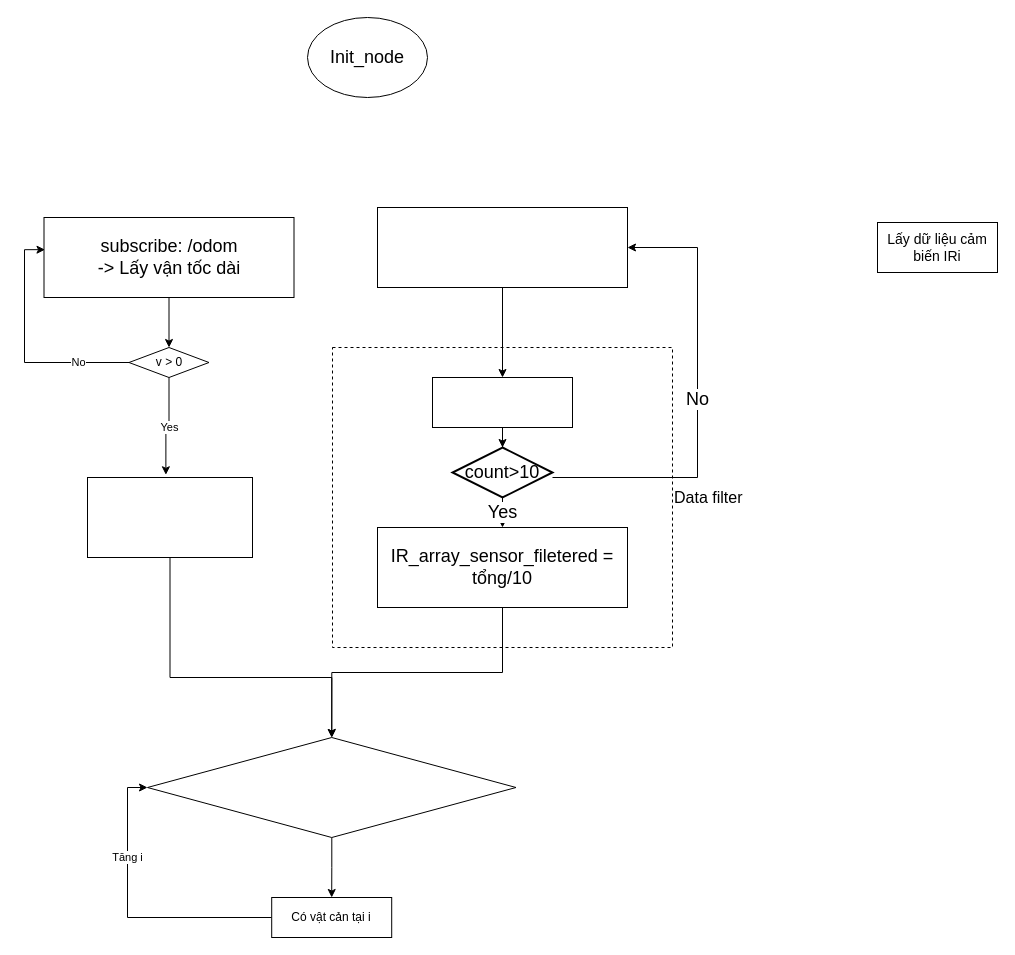
The diagram is 1015 pixels wide and 955 high, and some of its shapes have lost their labels. Here are the shapes that lost their labels. From the top down, the centre of each, then its label:
the point at 502,247: subscribe: IR_array_sensor
the point at 502,402: Tính tổng
the point at 169,517: boundary là hình tròn: d = 30
the point at 331,787: IR_array_sensor_filetered[i] < bb[i]
